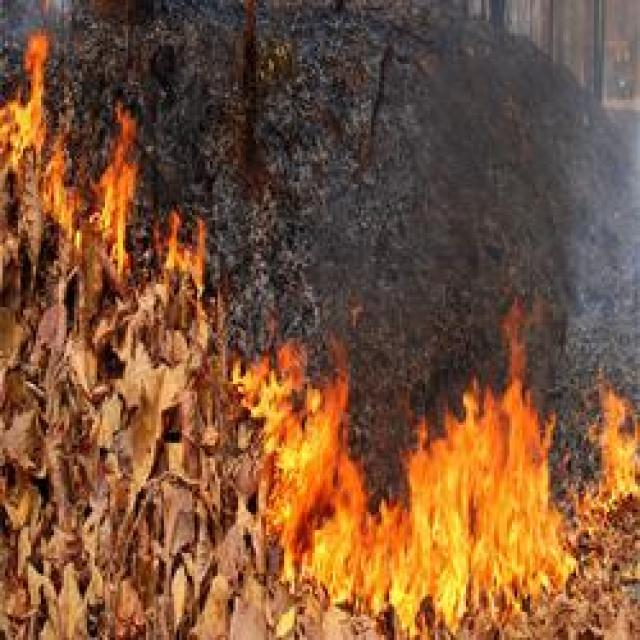fire: (229, 336, 640, 617), (27, 92, 212, 306)
